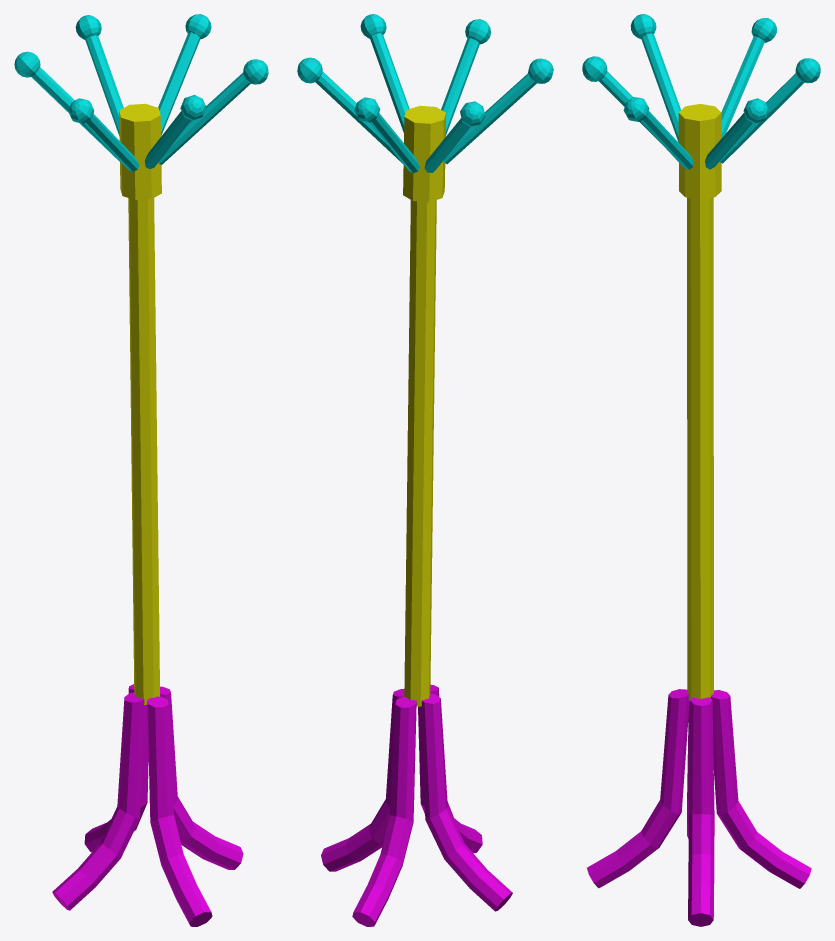
The model's file is Mesh_Portementeau_001.fbx.
The picture shows the model from 3 angles, left to right: view 1: azimuth 30°, elevation 25°; view 2: azimuth 150°, elevation 25°; view 3: azimuth 270°, elevation 25°; orthographic projection.
Visible parts, largest first — view 1: Mesh_Porte_menteau_001; view 2: Mesh_Porte_menteau_001; view 3: Mesh_Porte_menteau_001.
Part boxes in pixels (bbox=[...]): Mesh_Porte_menteau_001: bbox=[14, 14, 268, 926]; Mesh_Porte_menteau_001: bbox=[297, 14, 553, 926]; Mesh_Porte_menteau_001: bbox=[582, 14, 820, 926].
Size of the model in its own units: 42.56 by 170 by 44.47.
